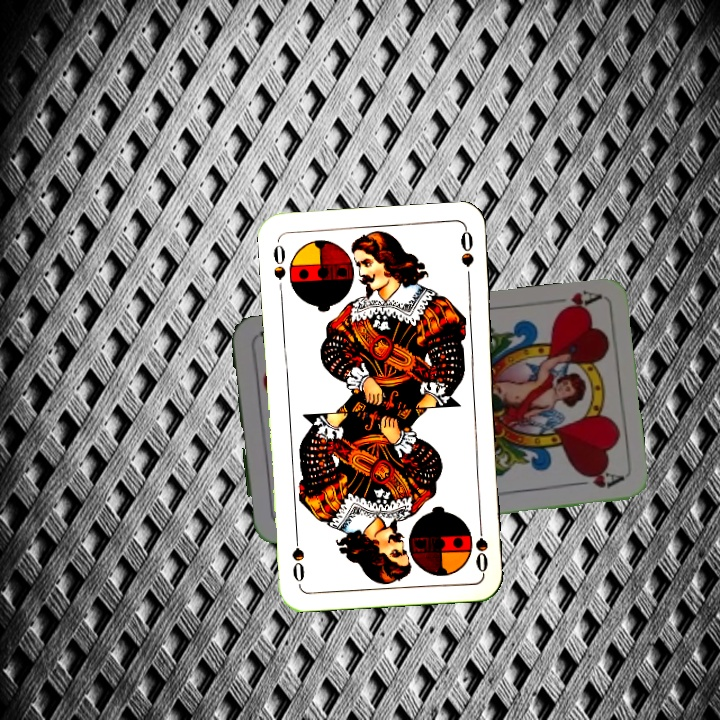HA: (543, 287, 602, 317)
SO: (269, 237, 289, 296), (472, 516, 491, 575)
